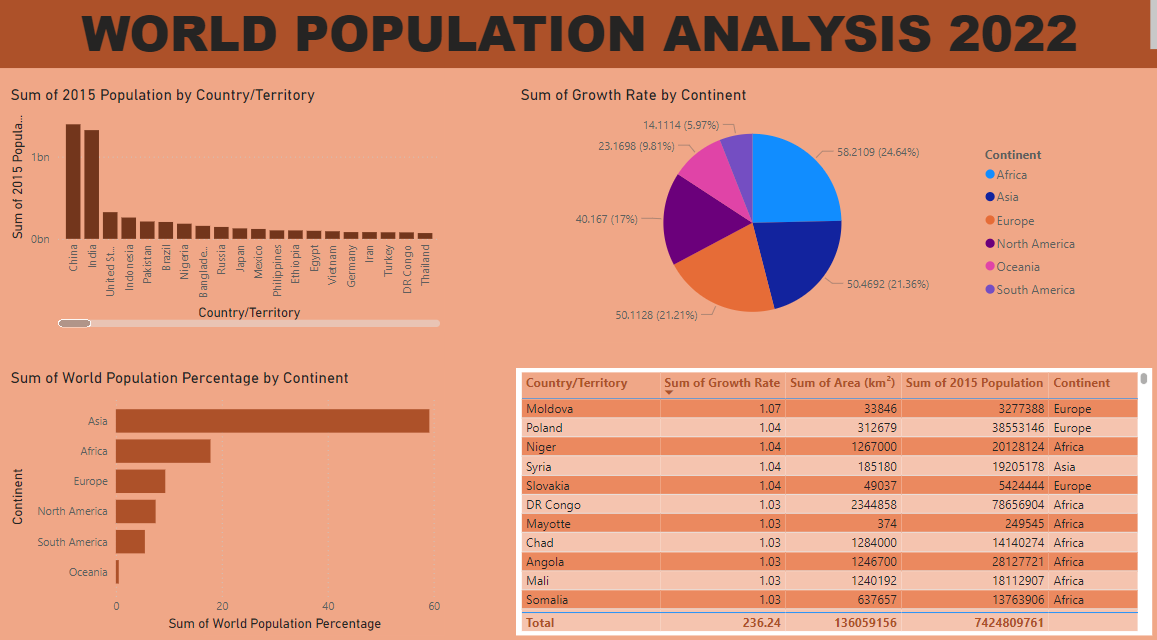

What the dashboard file says about the page in this screenshot:
{"tool":"powerbi","page":{"name":"Page 1","canvas":[1280,720],"ordinal":0},"visuals":[{"type":"pieChart","fields":{"Category":["world_population (2).Continent"],"Y":["Sum(world_population (2).Growth Rate)"]},"box":[570.8,101.5,628.5,282.7],"z":0},{"type":"clusteredBarChart","fields":{"Category":["world_population (2).Continent"],"Y":["Sum(world_population (2).World Population Percentage)"]},"box":[11,411.7,481.6,293.7],"z":1000},{"type":"columnChart","fields":{"Category":["world_population (2).Country/Territory"],"Y":["Sum(world_population (2).2015 Population)"]},"box":[11,101.5,481.6,270.3],"z":2000},{"type":"tableEx","fields":{"Values":["world_population (2).Country/Territory","Sum(world_population (2).Growth Rate)","Sum(world_population (2).Area (km²))","Sum(world_population (2).2015 Population)","world_population (2).Continent"]},"box":[570.8,411.7,698.5,293.7],"z":3000},{"type":"textbox","box":[0,0,1280.3,82.3],"z":4000}]}

Visuals, with their boxes in screenshot pixels (x1, y1, x2, y2), scaled from the page's 1280x720 canvas onto the 1157x640 screenshot:
pieChart - world_population (2).Continent x Sum(world_population (2).Growth Rate): 516/90/1084/342
clusteredBarChart - world_population (2).Continent x Sum(world_population (2).World Population Percentage): 10/366/445/627
columnChart - world_population (2).Country/Territory x Sum(world_population (2).2015 Population): 10/90/445/330
tableEx - world_population (2).Country/Territory x Sum(world_population (2).Growth Rate): 516/366/1147/627
textbox: 0/0/1156/73
